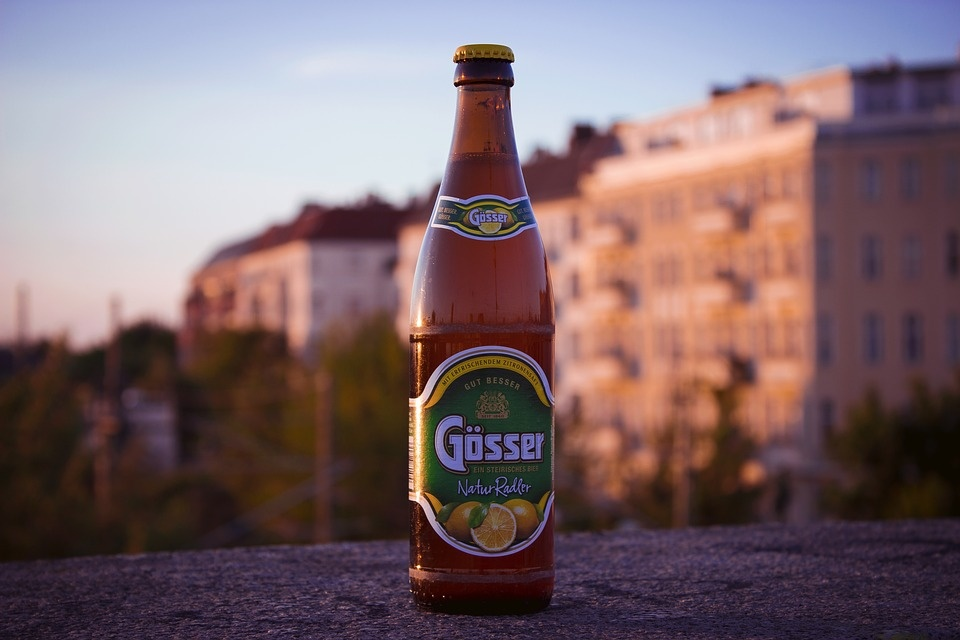beerBottle: (409, 44, 560, 600)
